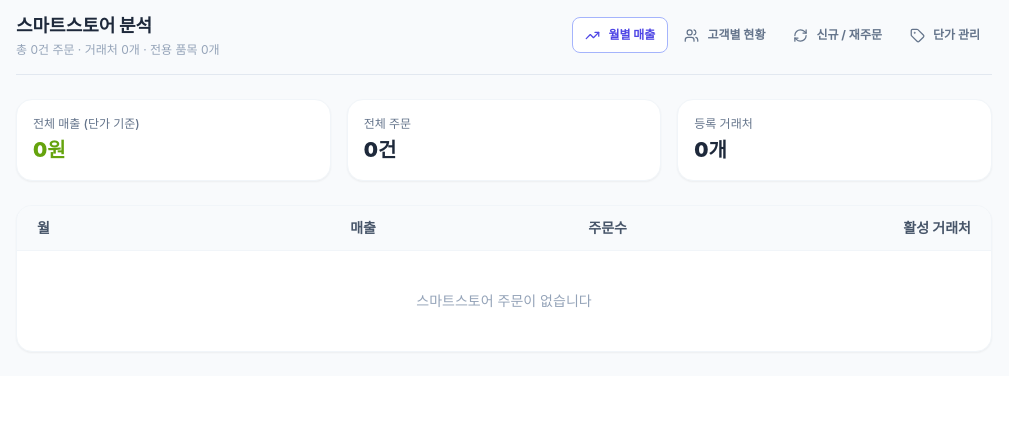
Test: 이름이 있는 분석 탭을 요약 카드보다 먼저 두고 기존 분석 보기만 바꾼다
The width and height of the screenshot is (1009, 439).
Click the button "단가 관리" at [945, 35], box x1=898 y1=17 x2=992 y2=53
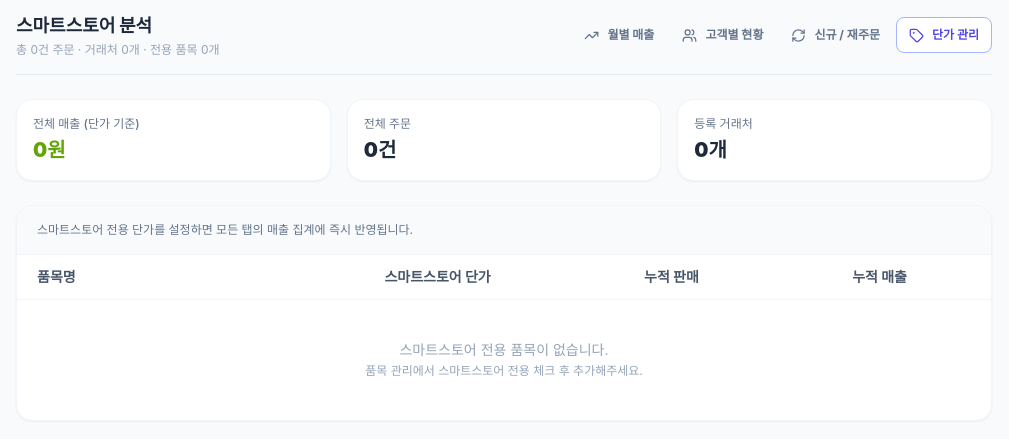
expect the text "스마트스토어 전용 품목이 없습니다." is shown: met, box x1=400 y1=341 x2=608 y2=358
Click the button "월별 매출" at [619, 35], box x1=572 y1=17 x2=666 y2=53
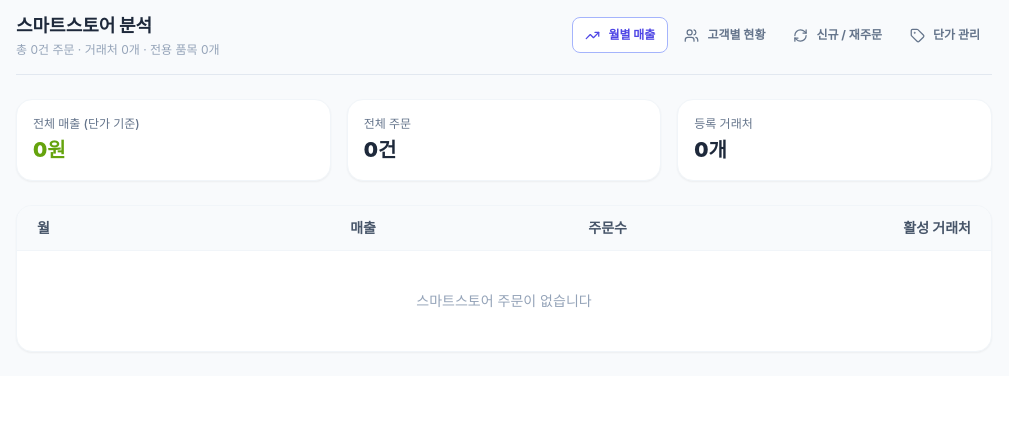
expect the column heading "월" is shown: met, box x1=17 y1=206 x2=186 y2=250
